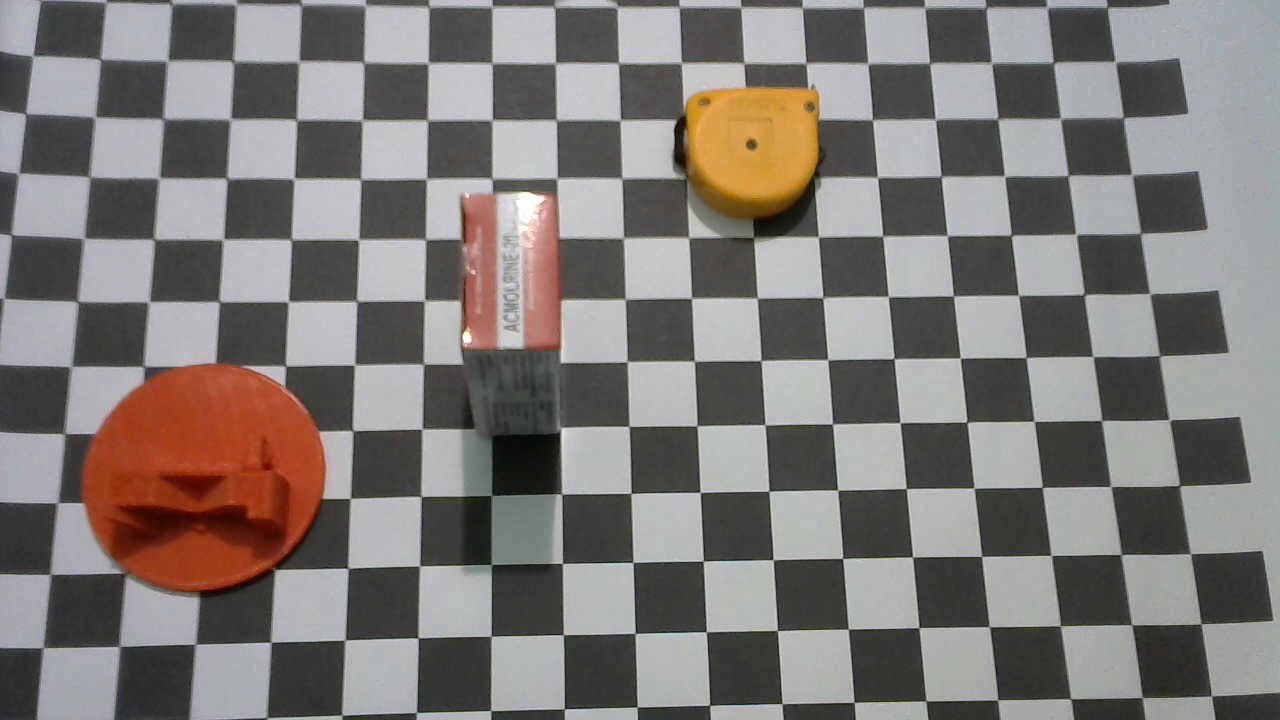blue: (672, 83, 825, 219)
red: (78, 364, 326, 598), (459, 191, 566, 436)
